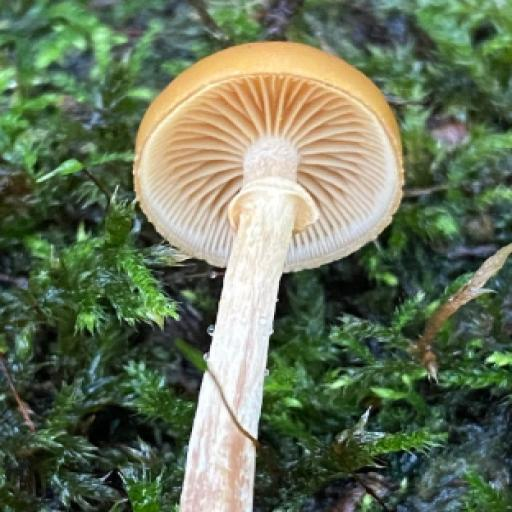mushroom: (127, 32, 406, 460)
